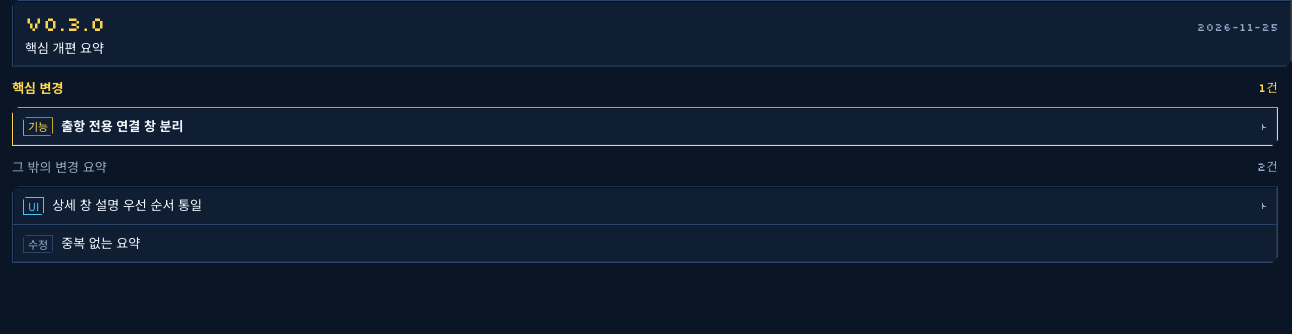
Test case: 업데이트 소식 본문 › important 항목을 상단 핵심 변경으로 분리하고, compact 요약 클릭 시 상세 본문을 펼치고 접는다
Expected: the text "핵심 변경" is shown, [12, 79, 64, 97]
Expected: the text "그 밖의 변경 요약" is shown, [12, 158, 107, 176]
클릭으로 상세 펼침 → 재클릭으로 접힘
Step 1. Click the button "기능 출항 전용 연결 창 분리" → [38, 127], box [13, 108, 1277, 145]
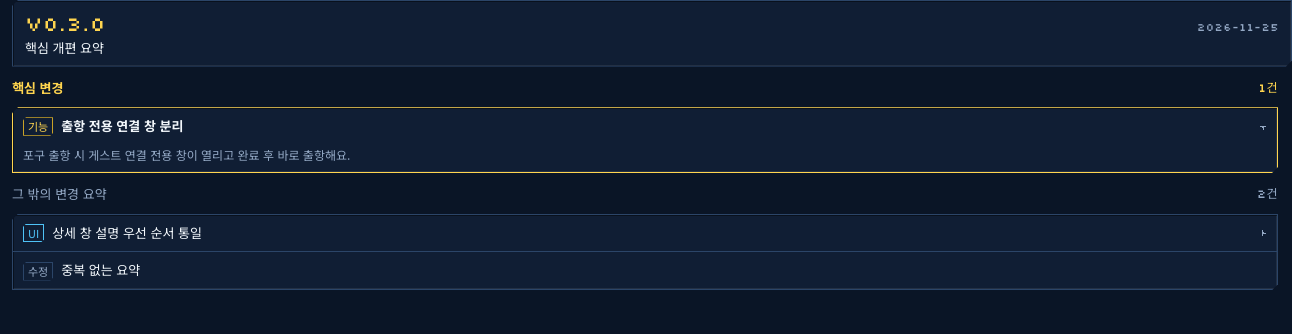
Now the text "포구 출항 시 게스트 연결 전용 창이 열리고 완료 후 바로 출항해요." is shown, box [23, 146, 350, 163]
Step 2. Click the button "UI 상세 창 설명 우선 순서 통일" → [127, 232], box [13, 215, 1277, 252]
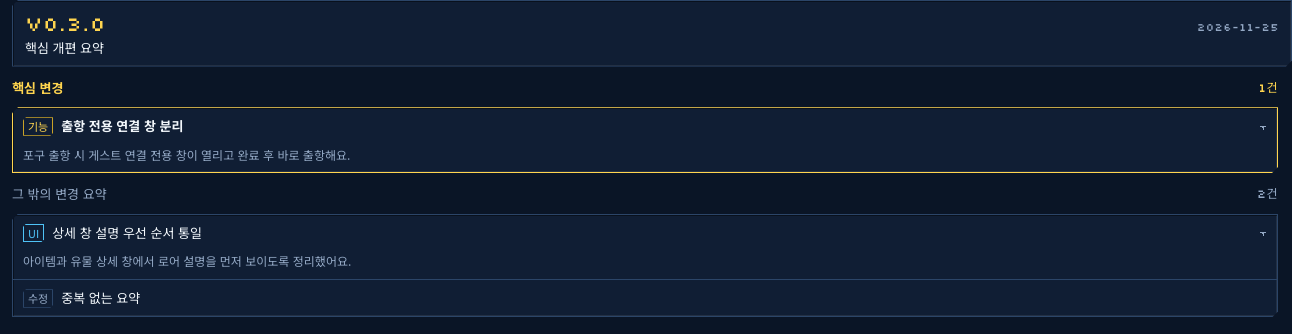
Now the text "아이템과 유물 상세 창에서 로어 설명을 먼저 보이도록 정리했어요." is shown, box [23, 252, 351, 270]
Step 3. Click the button "기능 출항 전용 연결 창 분리" → [38, 127], box [13, 108, 1277, 145]
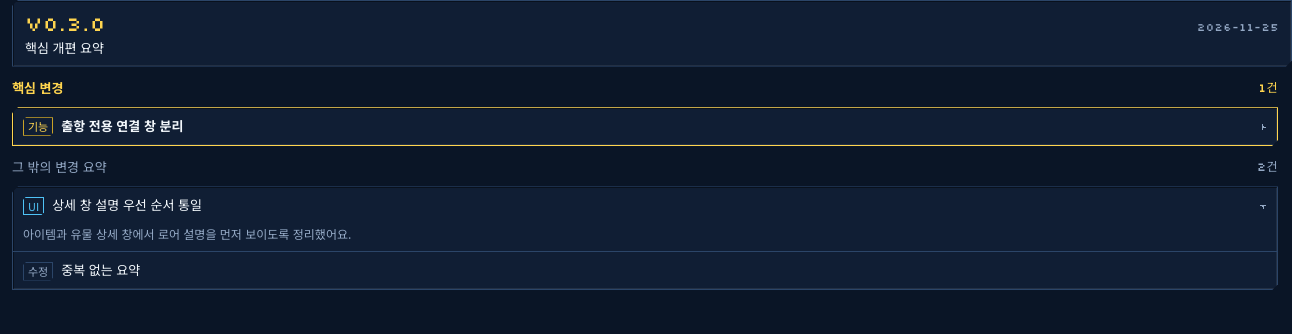
Now the text "포구 출항 시 게스트 연결 전용 창이 열리고 완료 후 바로 출항해요." is gone
